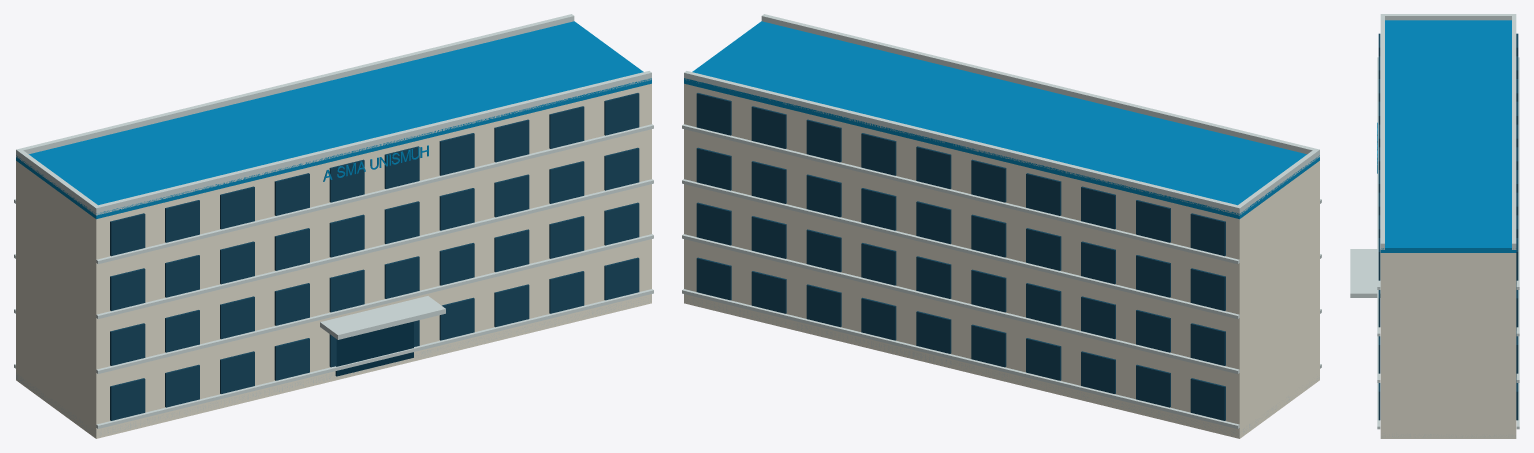
The model's file is sma-unismuh.glb.
3 views of the same model, side by side, from view 1: azimuth 30°, elevation 25°; view 2: azimuth 150°, elevation 25°; view 3: azimuth 270°, elevation 25° (orthographic). The views are drawn at different scales.
Visible parts, largest first — view 1: SMA_Unismuh_ivory, SMA_Unismuh_glass, SMA_Unismuh_blue, SMA_Unismuh_trim, SMA_Unismuh_darkglass; view 2: SMA_Unismuh_ivory, SMA_Unismuh_glass, SMA_Unismuh_blue, SMA_Unismuh_trim; view 3: SMA_Unismuh_blue, SMA_Unismuh_ivory, SMA_Unismuh_trim, SMA_Unismuh_glass.
Part boxes in pixels (box(x1,y1,x2,y2)): SMA_Unismuh_ivory: box(16, 83, 651, 438); SMA_Unismuh_glass: box(110, 93, 639, 420); SMA_Unismuh_blue: box(16, 21, 651, 219); SMA_Unismuh_trim: box(14, 14, 653, 436); SMA_Unismuh_darkglass: box(335, 321, 413, 376); SMA_Unismuh_ivory: box(684, 83, 1319, 438); SMA_Unismuh_glass: box(696, 93, 1225, 420); SMA_Unismuh_blue: box(684, 21, 1319, 219); SMA_Unismuh_trim: box(682, 14, 1321, 436); SMA_Unismuh_blue: box(1377, 20, 1516, 252); SMA_Unismuh_ivory: box(1380, 253, 1516, 438); SMA_Unismuh_trim: box(1350, 14, 1519, 437); SMA_Unismuh_glass: box(1378, 33, 1518, 420).
Bounding box in the file's own units: 36 × 14.27 × 11.22.
